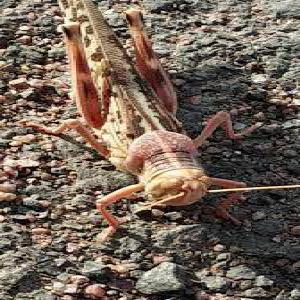locust: (44, 1, 242, 200)
